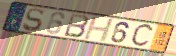6: (110, 20, 131, 44), (45, 12, 66, 36)
B: (63, 13, 90, 39)
C: (129, 23, 155, 49)
H: (82, 16, 116, 43)
S: (21, 7, 45, 33)
